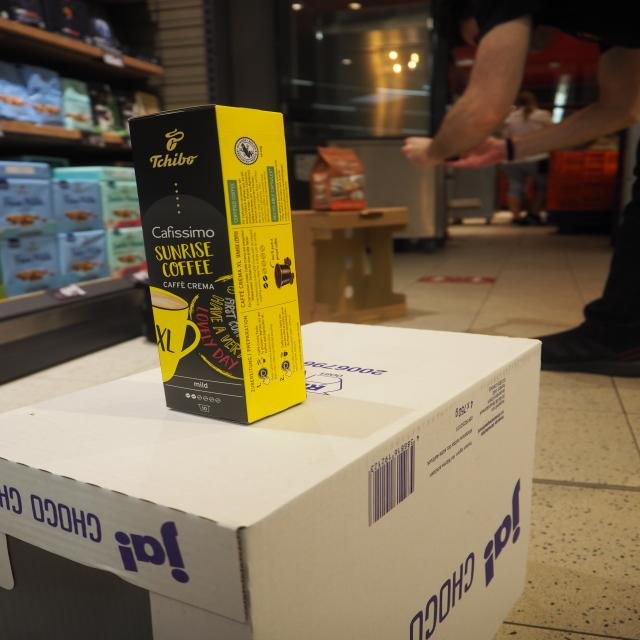Simo Sunrise: (127, 103, 250, 429)
